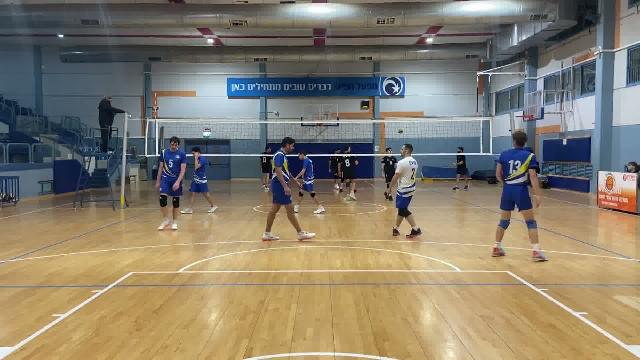ball: (397, 126, 406, 137)
